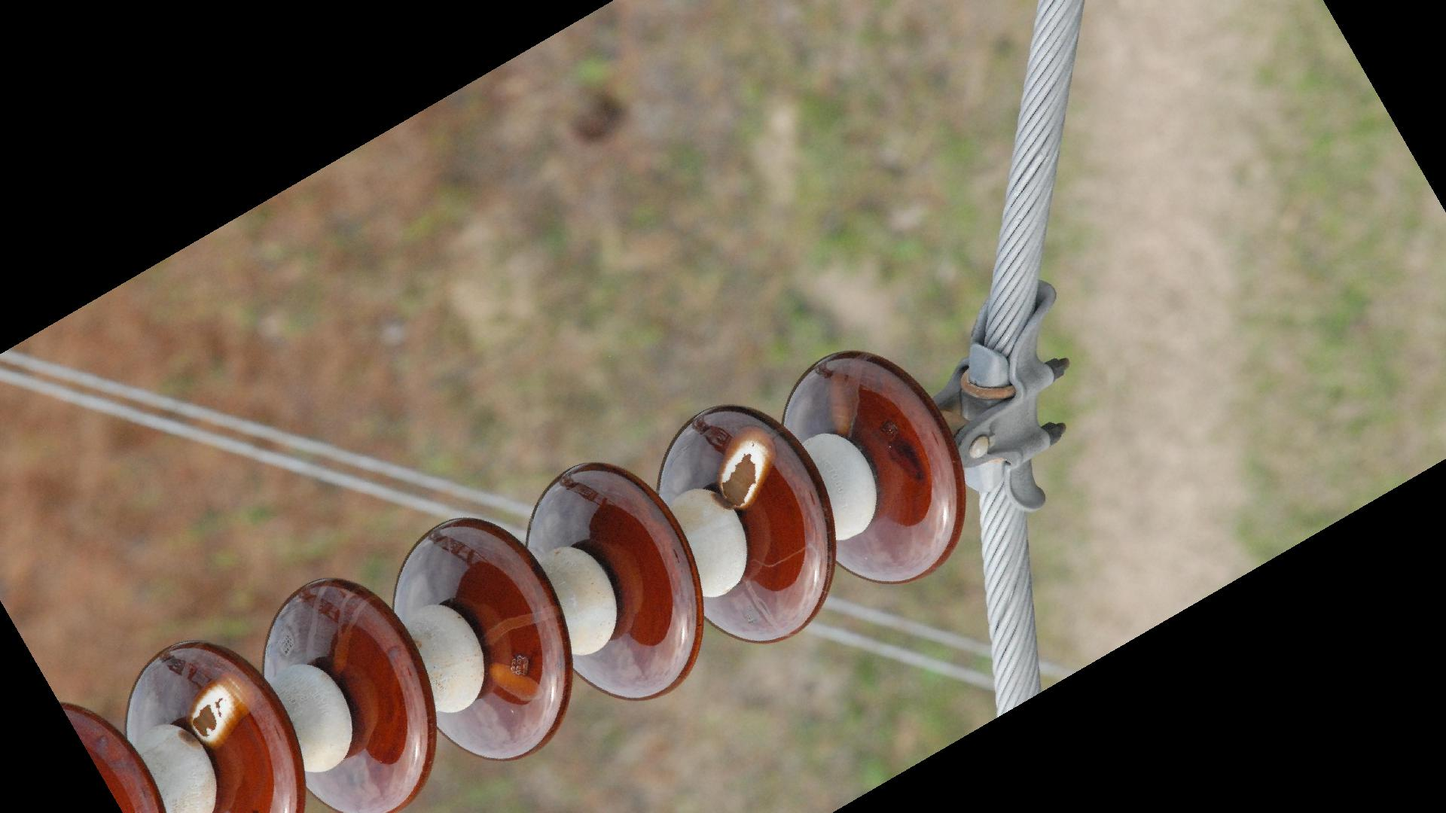insulator: (56, 344, 976, 813)
insulator_flashover: (716, 424, 779, 510), (185, 671, 252, 748), (484, 658, 548, 708)
